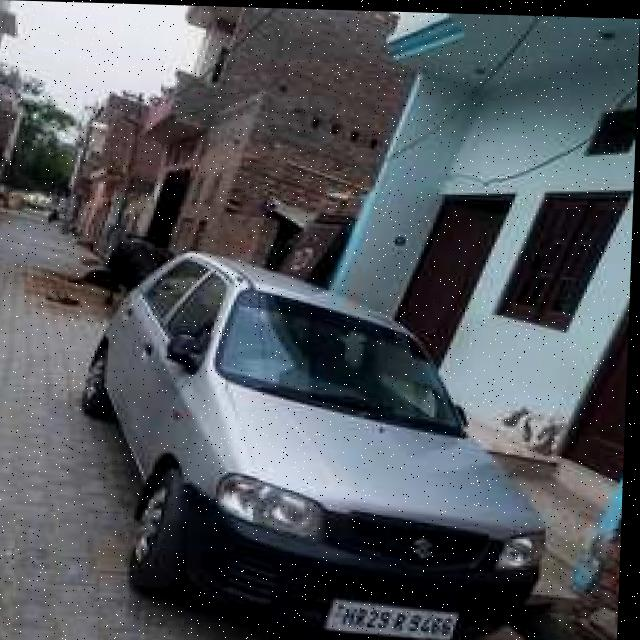plate: (325, 594, 465, 640)
